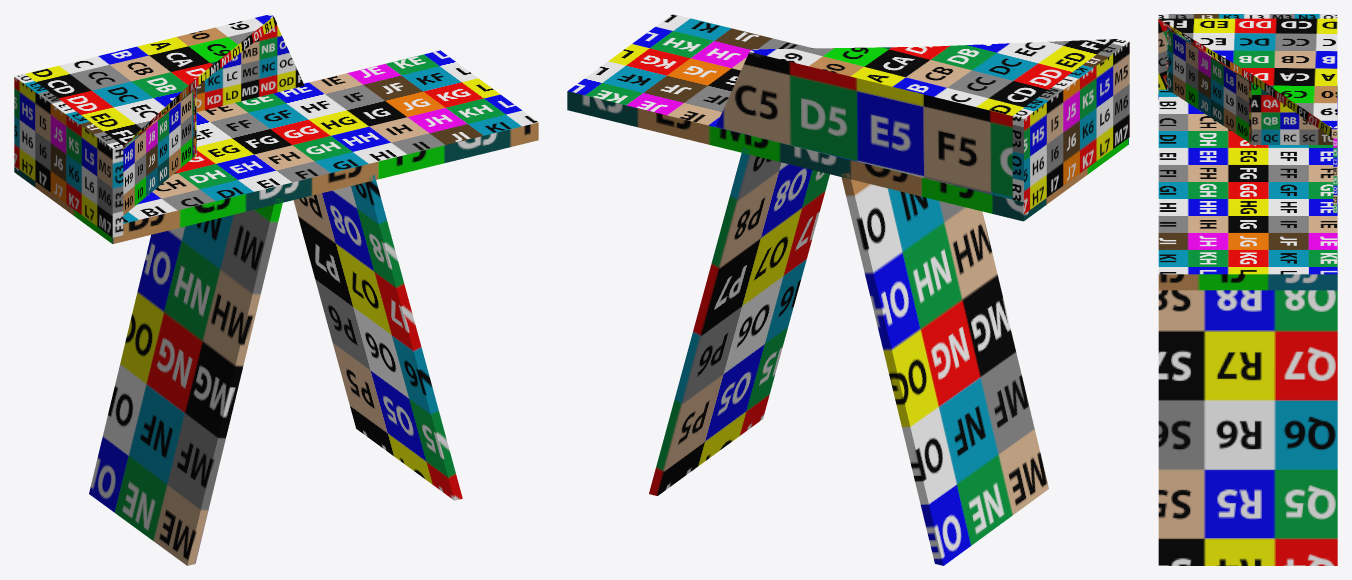
File: table3.FBX
The picture shows the model from 3 angles, left to right: view 1: azimuth 30°, elevation 25°; view 2: azimuth 150°, elevation 25°; view 3: azimuth 270°, elevation 25°; orthographic projection. The views are drawn at different scales.
Visible parts, largest first — view 1: table3; view 2: table3; view 3: table3.
Part boxes in pixels (x1=…): table3: x1=14, y1=14, x2=538, y2=565; table3: x1=567, y1=14, x2=1129, y2=565; table3: x1=1158, y1=14, x2=1337, y2=565.
Size of the model in its own units: 1.33 by 1.3 by 0.5321.
Materials: 1 (1 with a texture image).
